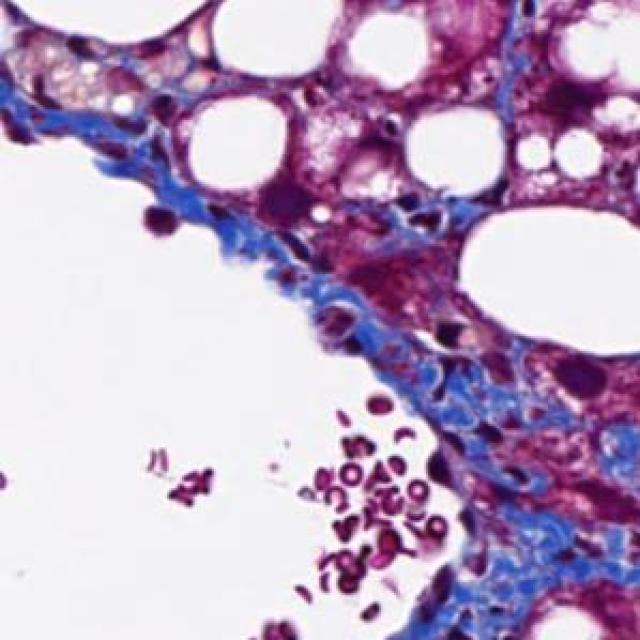inflammation: (377, 182, 454, 242)
